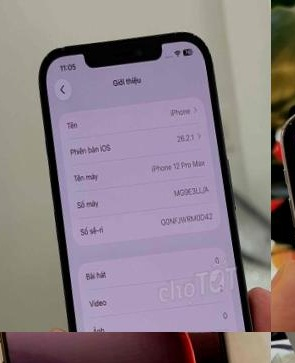scratch: (272, 99, 295, 138)
